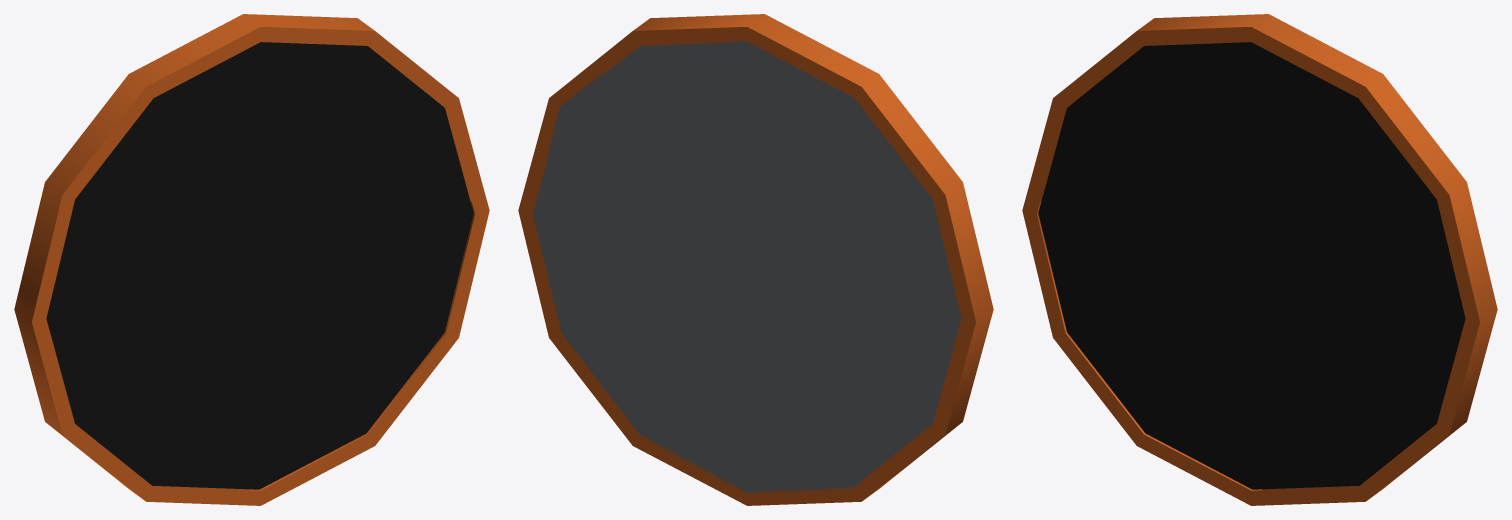
Rendered from engine_hot_emitter_annulus.obj.
3 views of the same model, side by side, from view 1: azimuth 30°, elevation 25°; view 2: azimuth 150°, elevation 25°; view 3: azimuth 330°, elevation 25° (orthographic).
Parts seen in each view (by area): view 1: engine_hot_emitter_annulus; view 2: engine_hot_emitter_annulus; view 3: engine_hot_emitter_annulus.
Boxes of the visible parts, <box> form: engine_hot_emitter_annulus: <box>14,14,489,505</box>; engine_hot_emitter_annulus: <box>518,14,993,505</box>; engine_hot_emitter_annulus: <box>1022,14,1497,505</box>.
Bounding box in the file's own units: 3.77 × 3.77 × 0.25.
